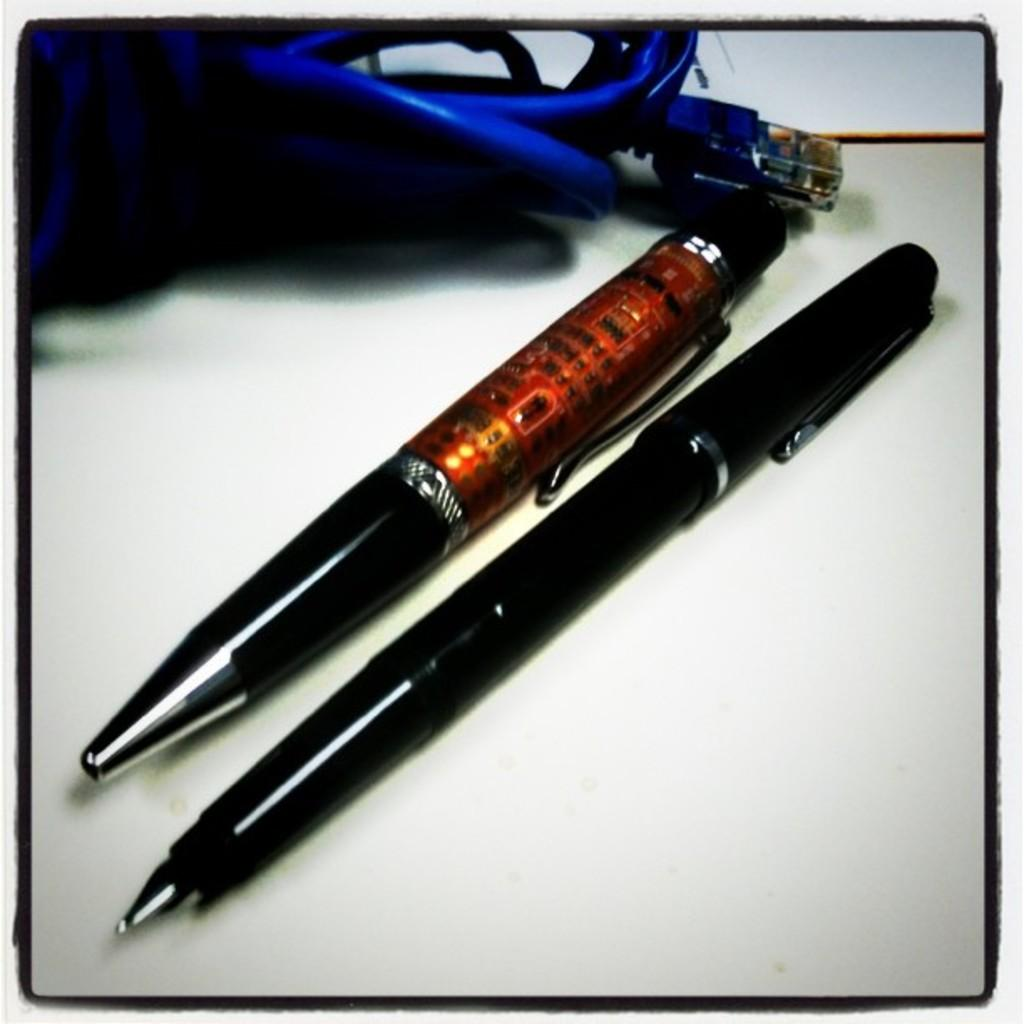Luggage-and-bags: (26, 24, 842, 314)
